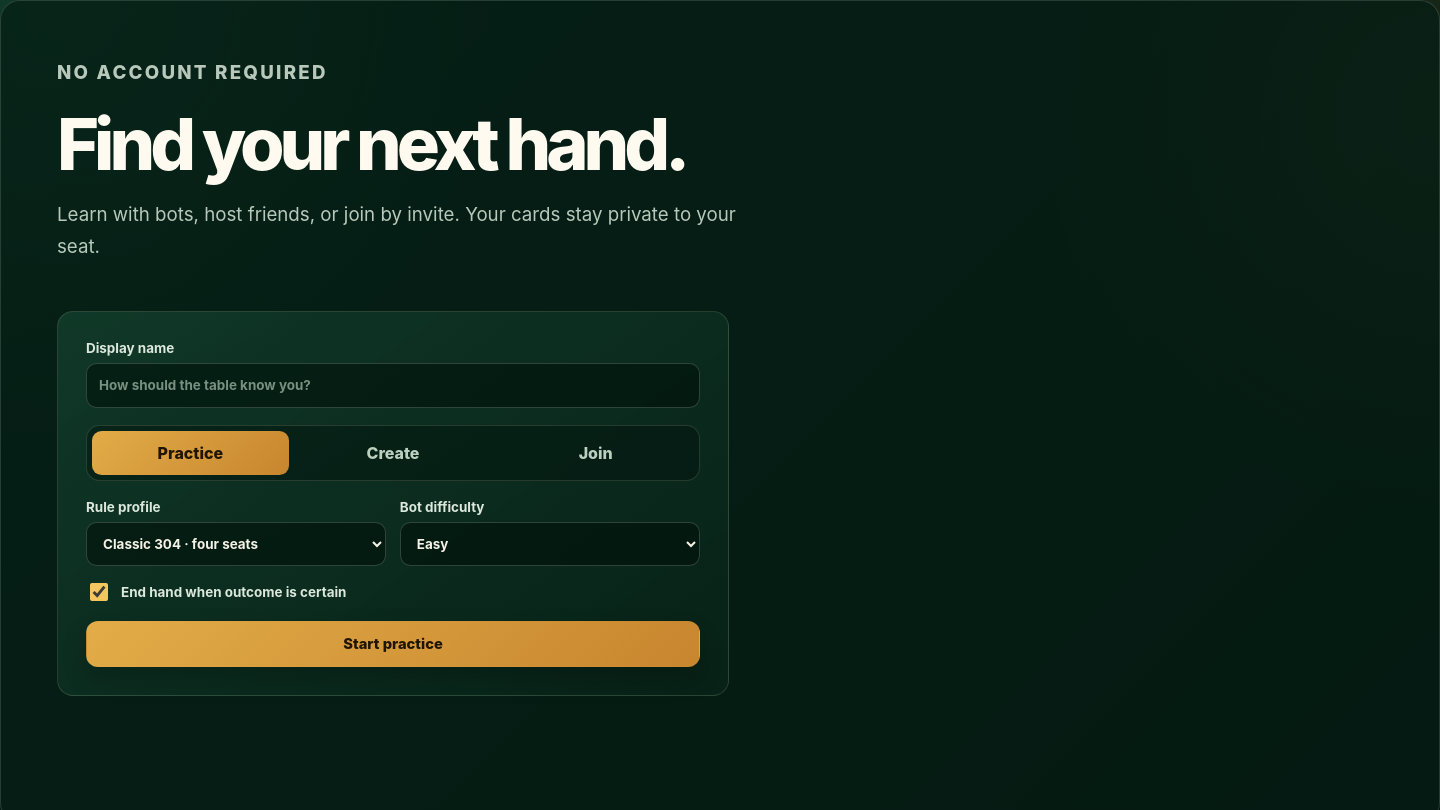
EntryFlow › uses one shared name and exposes Practice, Create, and Join as pressed modes
The image size is (1440, 810).
Check: the number of fields labelled "Display name" is 1, box [86, 363, 700, 408]
Check: the field labelled "Invite code" is not shown
Click the button "Join".
click(596, 453)  # box [497, 431, 694, 475]
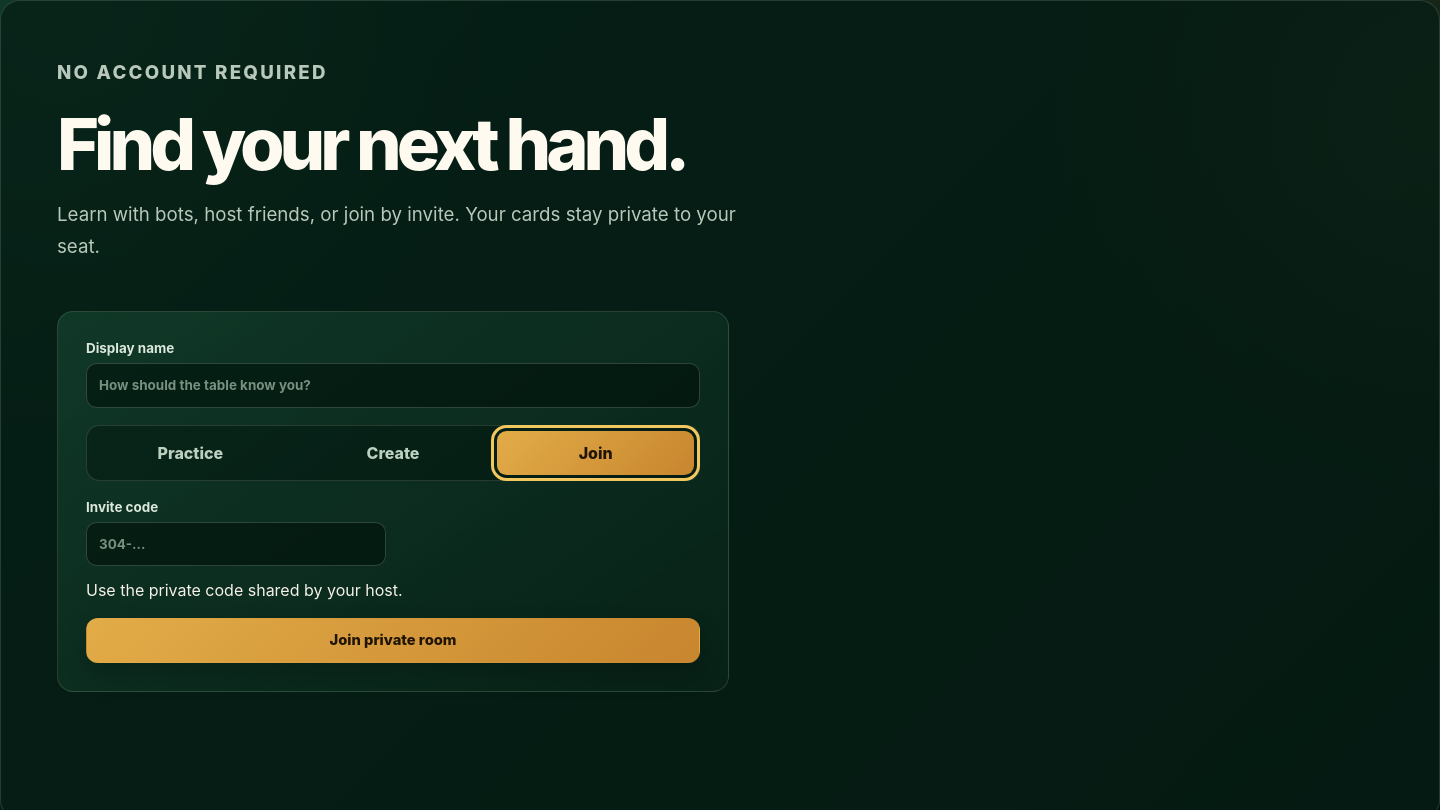
Check: the field labelled "Invite code" is shown, box [86, 522, 386, 566]
Check: the label labelled "Bot difficulty" is gone
